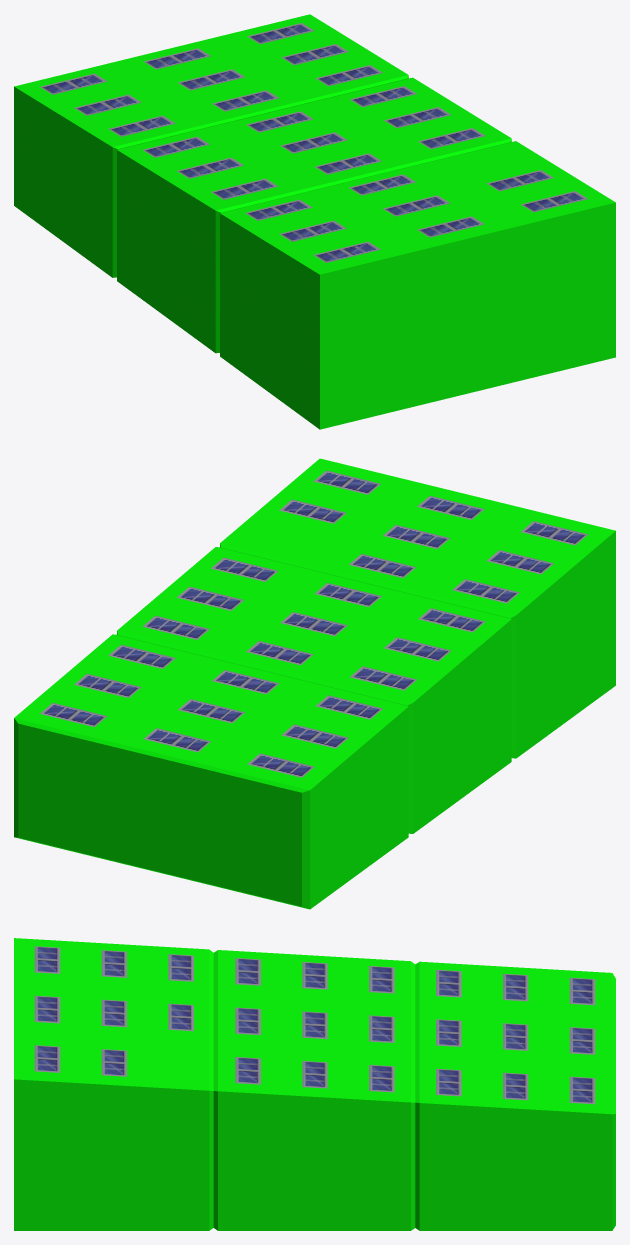
File: building_9s_01.FBX
3 views of the same model, one above another, from view 1: azimuth 30°, elevation 25°; view 2: azimuth 150°, elevation 25°; view 3: azimuth 270°, elevation 25° (orthographic). The views are drawn at different scales.
Visible parts, largest first — view 1: building_9s_01; view 2: building_9s_01; view 3: building_9s_01.
Boxes of the visible parts, x1=… form: building_9s_01: x1=14, y1=14, x2=615, y2=429; building_9s_01: x1=14, y1=458, x2=615, y2=909; building_9s_01: x1=14, y1=938, x2=615, y2=1230.
Bounding box in the file's own units: 20 × 10 × 36.
